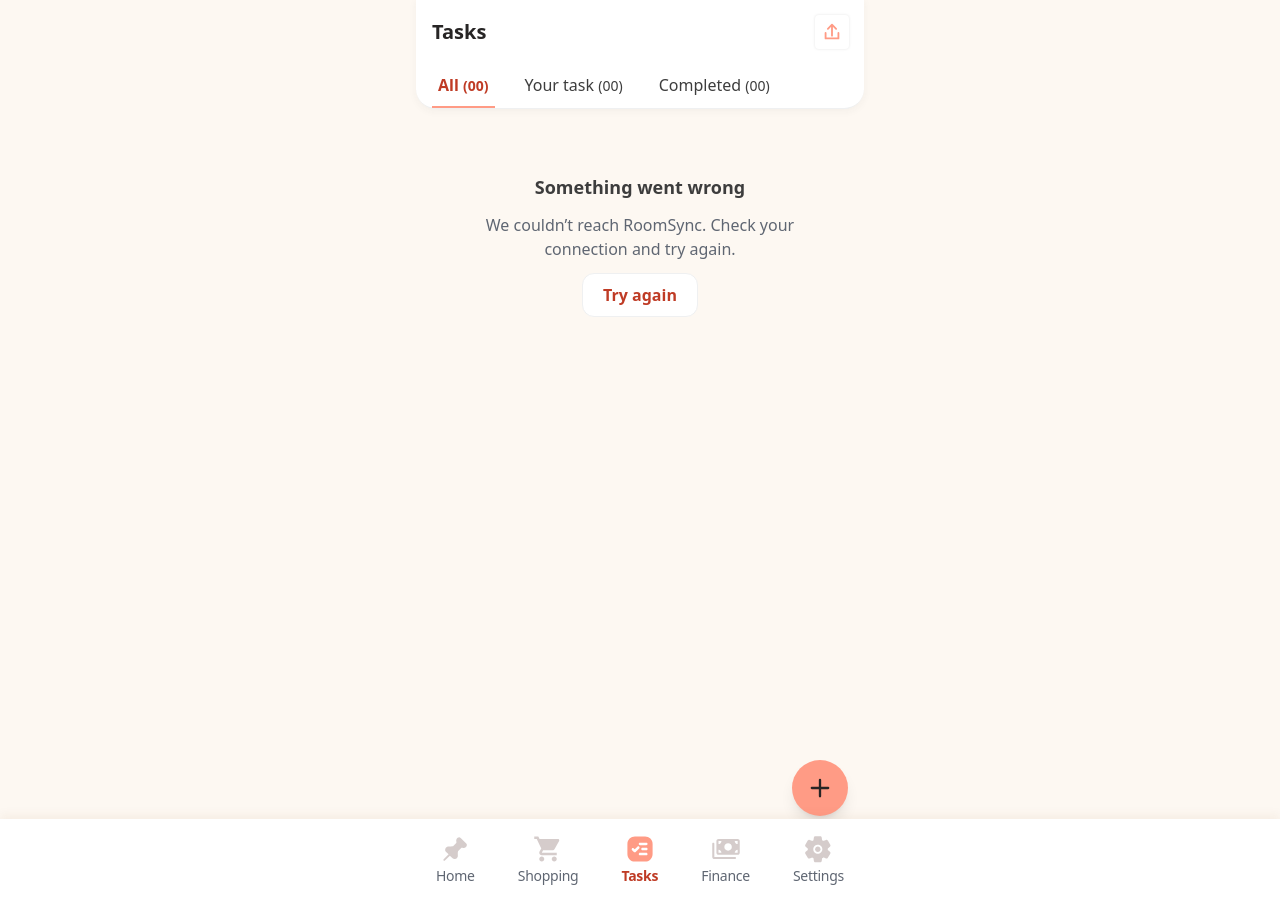
Scenario: chore lists › loading, then an error with retry
Expected: the text "We couldn’t reach RoomSync. Check your connection and try again." is shown, [480, 213, 800, 261]
Click the button "Try again". click: point(640, 295)
box: [582, 273, 698, 317]
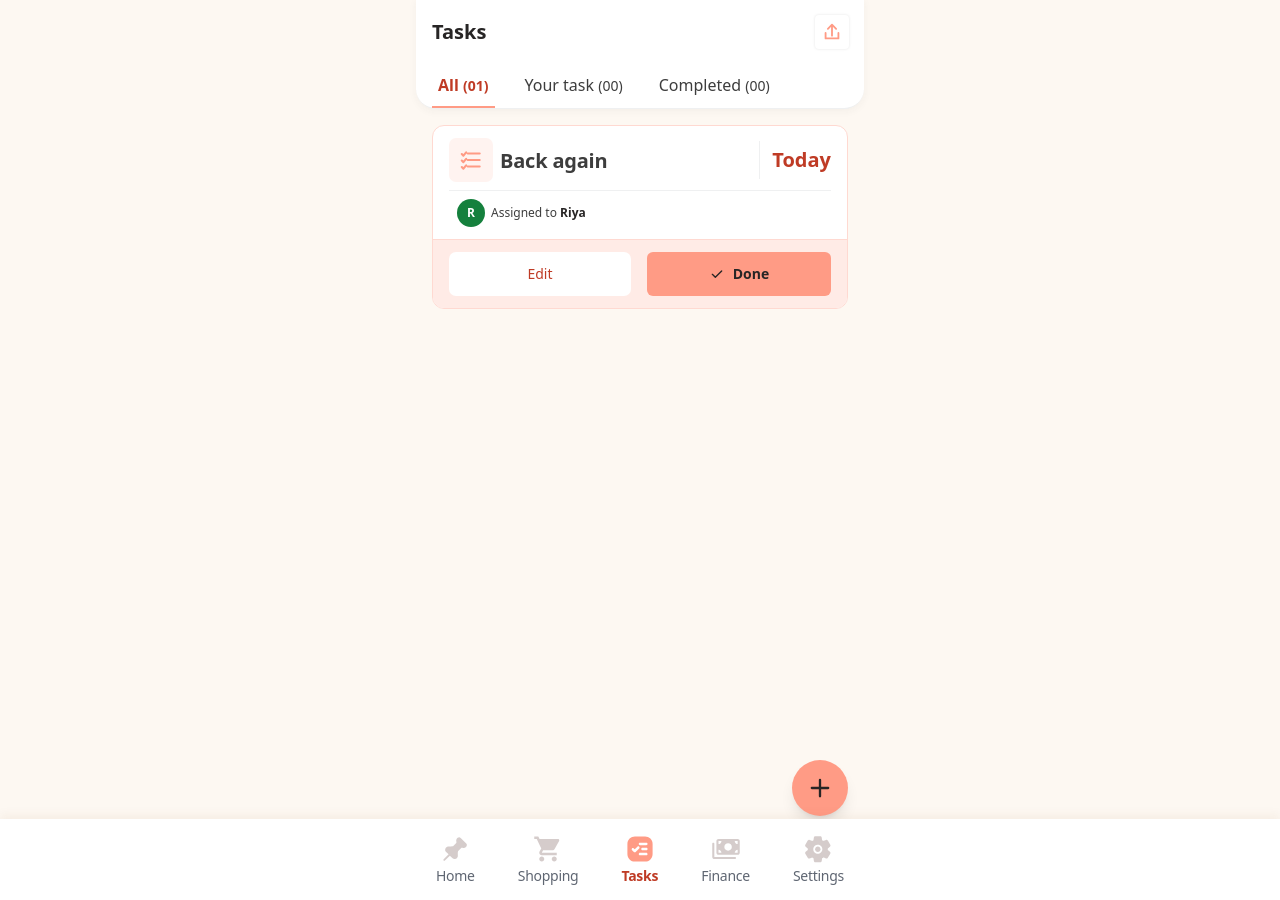
Result: the text "Back again" is shown at [500, 148, 608, 172]
